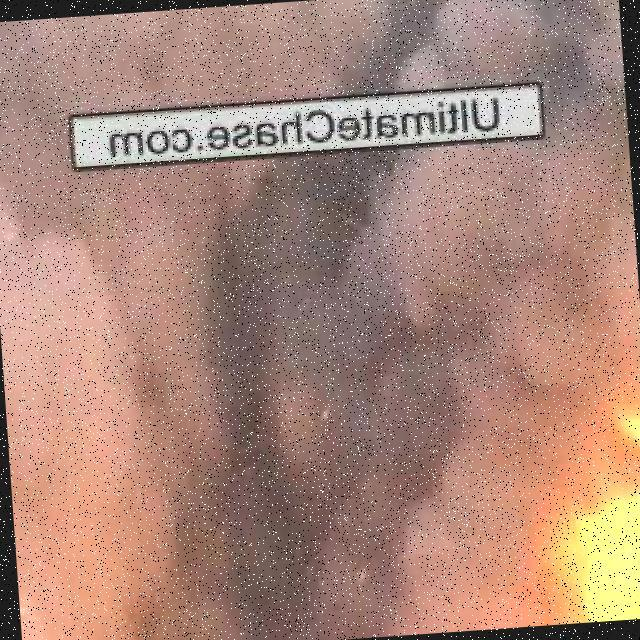Fire: (510, 340, 640, 626)
